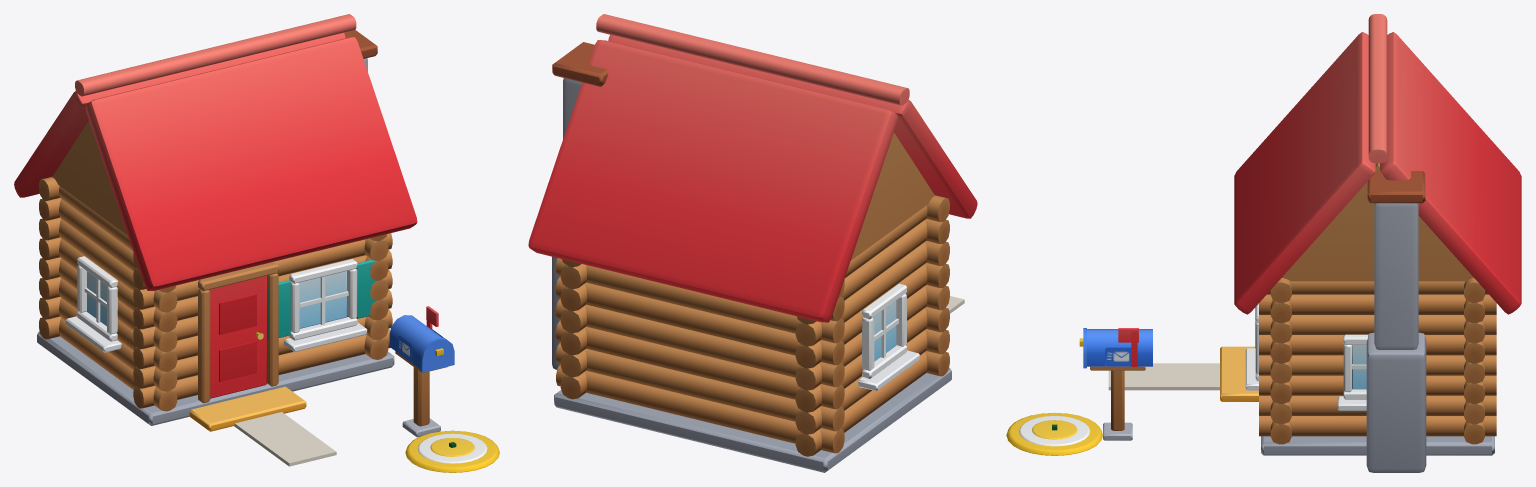
The model's file is house_cabin.glb.
3 views of the same model, side by side, from view 1: azimuth 30°, elevation 25°; view 2: azimuth 150°, elevation 25°; view 3: azimuth 270°, elevation 25° (orthographic). The views are drawn at different scales.
Parts seen in each view (by area): view 1: house_cabin; view 2: house_cabin; view 3: house_cabin.
Boxes of the visible parts, bbox=[...] form: house_cabin: bbox=[14, 14, 499, 472]; house_cabin: bbox=[528, 14, 977, 472]; house_cabin: bbox=[1006, 14, 1521, 472].
Bounding box in the file's own units: 18.75 × 18.68 × 27.73.
1 material, 1 textured.
